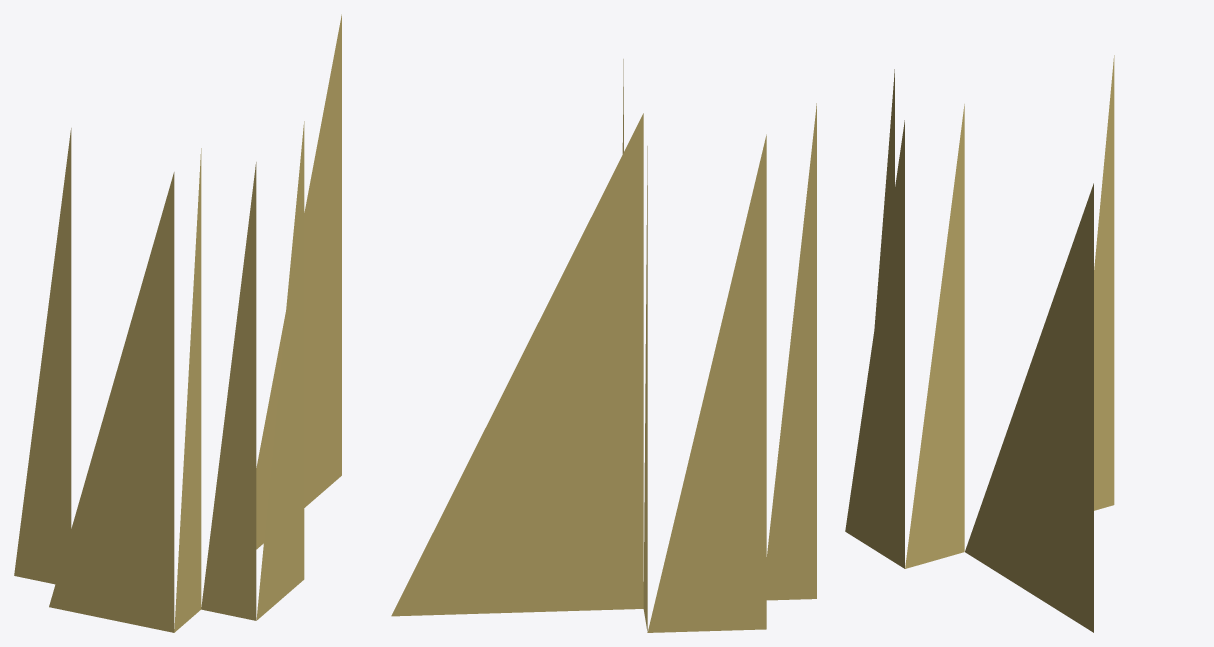
The picture shows the model from 3 angles, left to right: view 1: azimuth 30°, elevation 25°; view 2: azimuth 150°, elevation 25°; view 3: azimuth 270°, elevation 25°; orthographic projection. The views are drawn at different scales.
Size of the model in its own units: 60.25 by 75 by 53.52.
